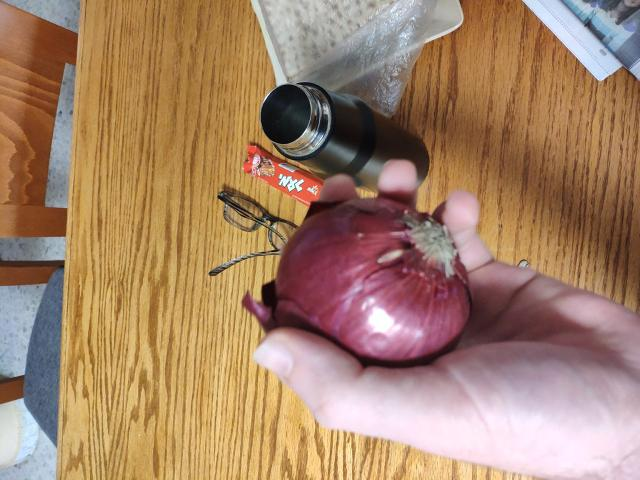onion: (283, 198, 439, 352)
